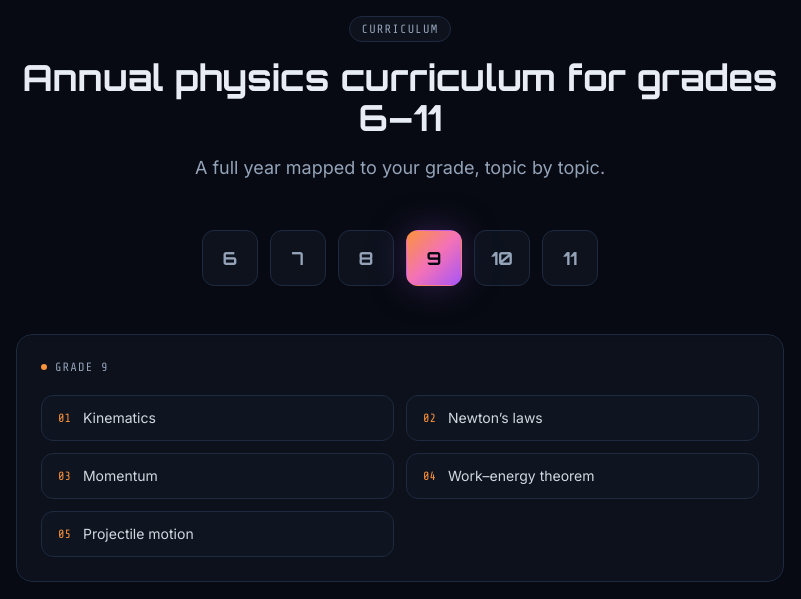
Test: CurriculumSection › switches topics when a different grade is selected
Expected: the text "Projectile motion" is shown, [83, 524, 194, 544]
// pick grade 6 → "Density" appears, projectile motion gone
Click the button "6": point(230, 258) [202, 230, 258, 286]
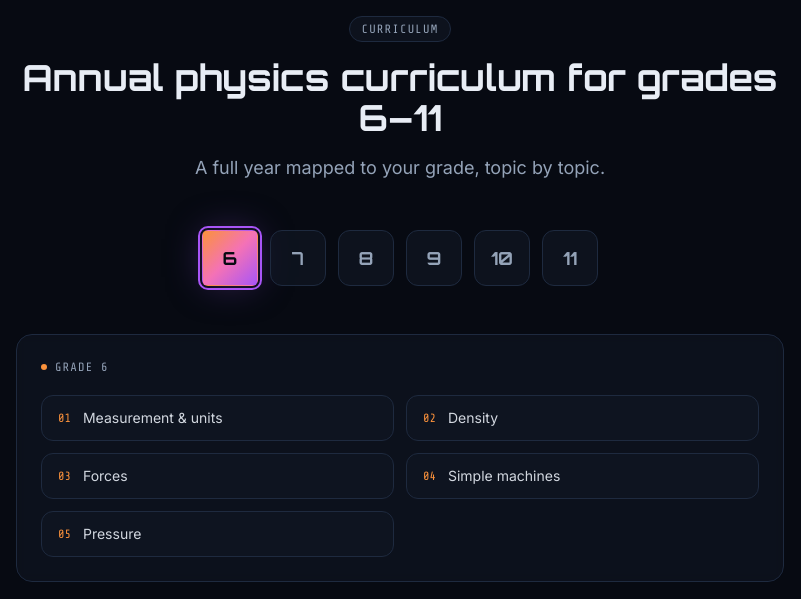
Now the text "Density" is shown, box [448, 408, 498, 428]
Now the text "Projectile motion" is gone
